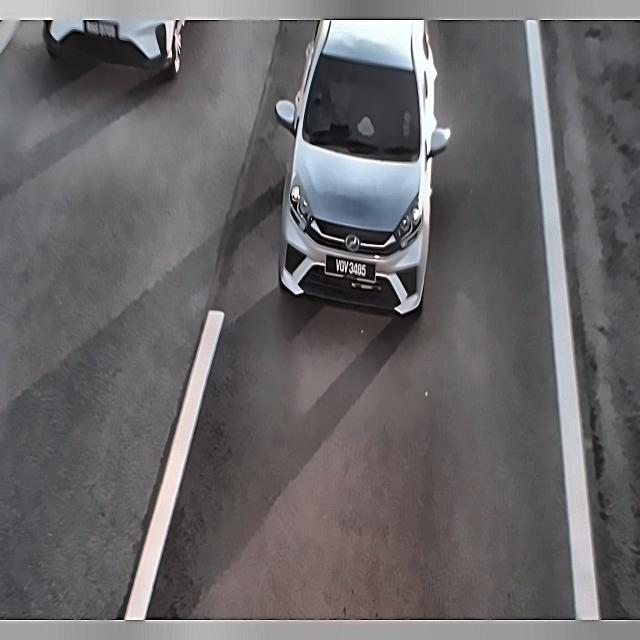car: (324, 250, 378, 288), (79, 21, 129, 42)
